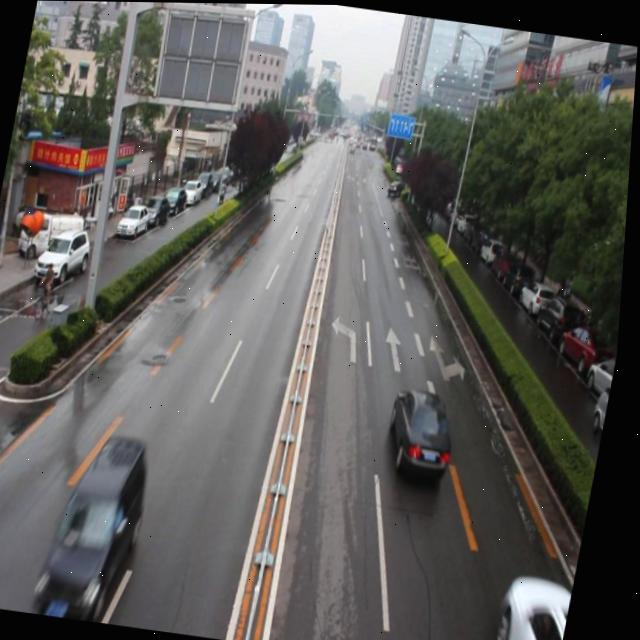car: (384, 382, 466, 486), (497, 573, 581, 640), (387, 175, 408, 196)
truck: (38, 433, 162, 623)
